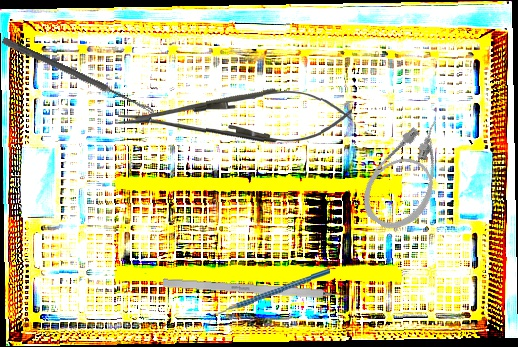Cannula: (350, 109, 470, 241)
Chopper: (205, 268, 332, 327)
Hook Surgical: (162, 278, 360, 301)
Needle Holder: (117, 86, 353, 147)
Surgical Spoon: (1, 37, 156, 115)
